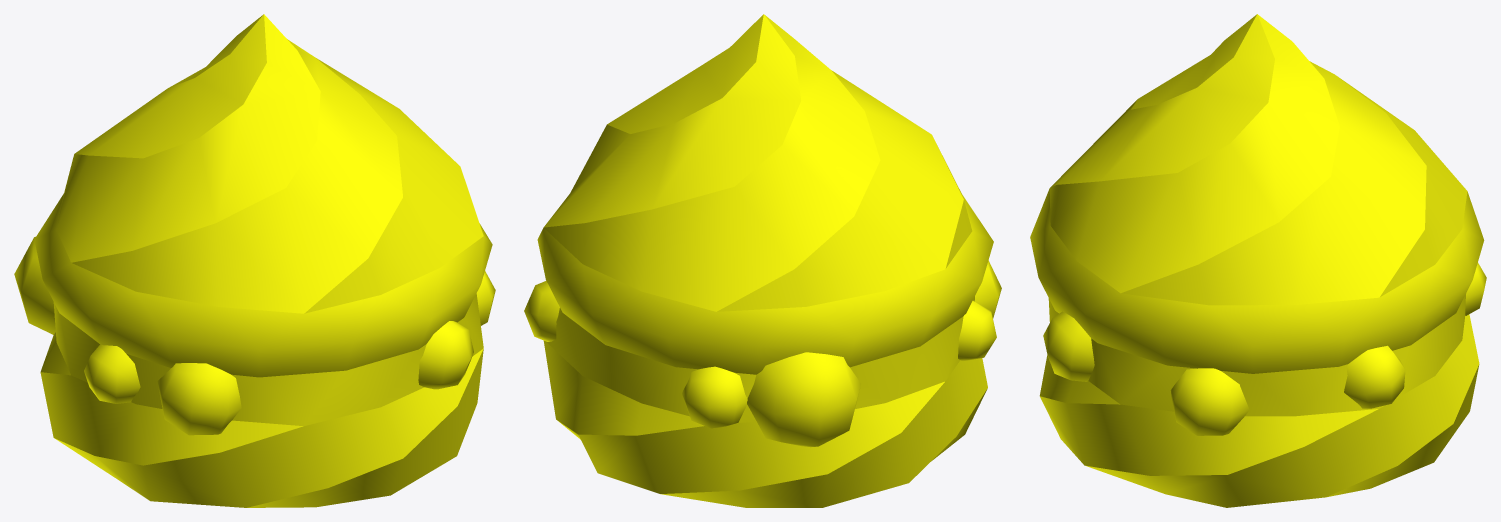
The picture shows the model from 3 angles, left to right: view 1: azimuth 30°, elevation 25°; view 2: azimuth 150°, elevation 25°; view 3: azimuth 270°, elevation 25°; orthographic projection.
Parts seen in each view (by area): view 1: m_CreamPuff01; view 2: m_CreamPuff01; view 3: m_CreamPuff01.
Part boxes in pixels (left/top/right/bottom): m_CreamPuff01: left=14, top=14, right=495, bottom=507; m_CreamPuff01: left=524, top=14, right=1001, bottom=507; m_CreamPuff01: left=1030, top=14, right=1486, bottom=507.
Bounding box in the file's own units: 0.1122 × 0.1123 × 0.1105.
Materials: 1 (1 with a texture image).
